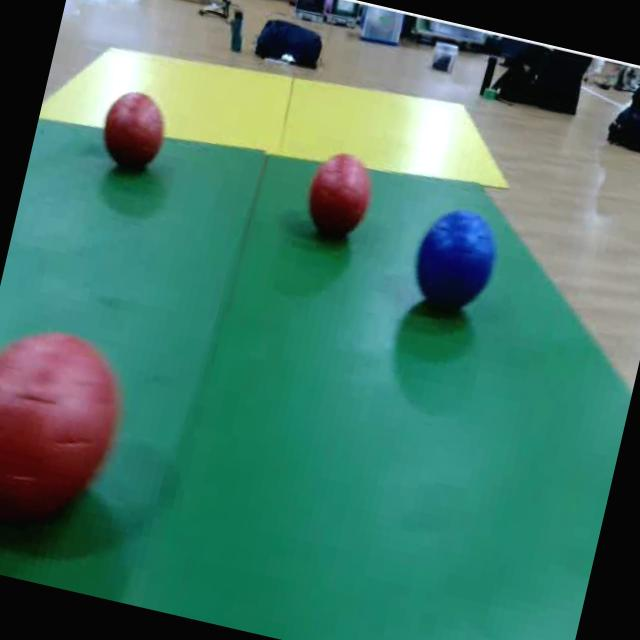blue_ball: (405, 202, 506, 326)
red_ball: (0, 309, 133, 555), (298, 144, 382, 252), (91, 82, 174, 187)
